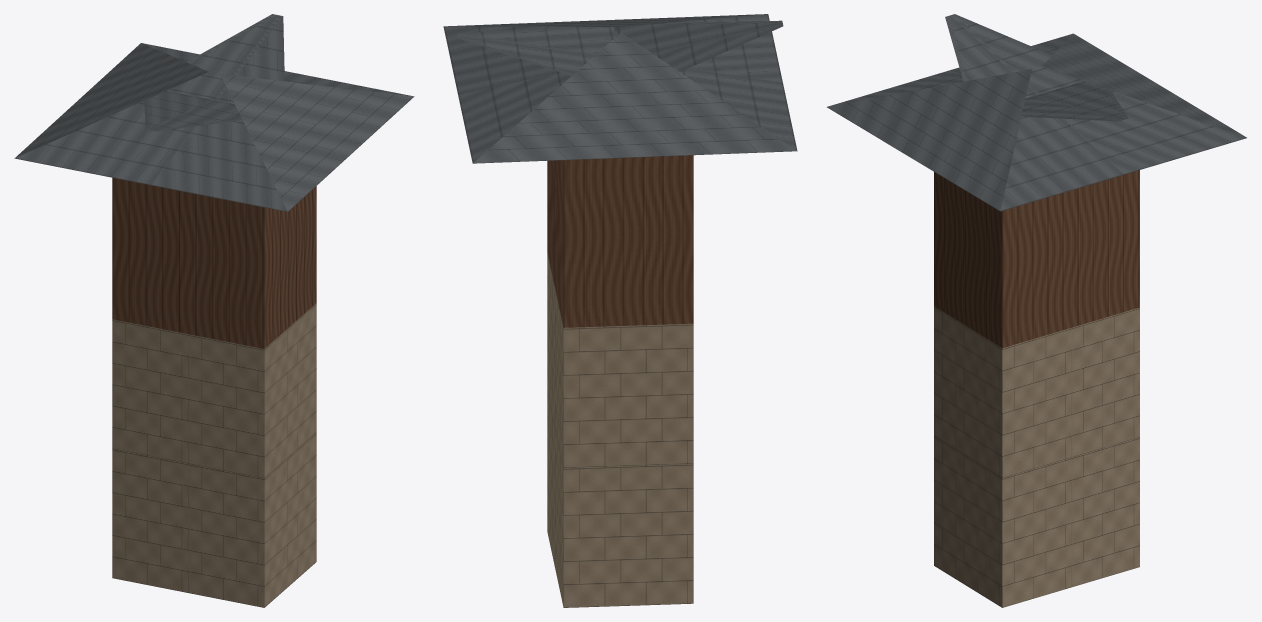
File: bld_c14_14_479.gltf
3 renders of one model, left to right at view 1: azimuth 30°, elevation 25°; view 2: azimuth 150°, elevation 25°; view 3: azimuth 270°, elevation 25°, orthographic. The views are drawn at different scales.
Parts seen in each view (by area): view 1: bld_c14_14_479; view 2: bld_c14_14_479; view 3: bld_c14_14_479.
Part boxes in pixels (x1=…): bld_c14_14_479: x1=14, y1=14, x2=414, y2=607; bld_c14_14_479: x1=443, y1=14, x2=797, y2=607; bld_c14_14_479: x1=827, y1=14, x2=1246, y2=607.
Size of the model in its own units: 6.97 by 9.1 by 6.97.
Materials: 3 (3 with a texture image).
